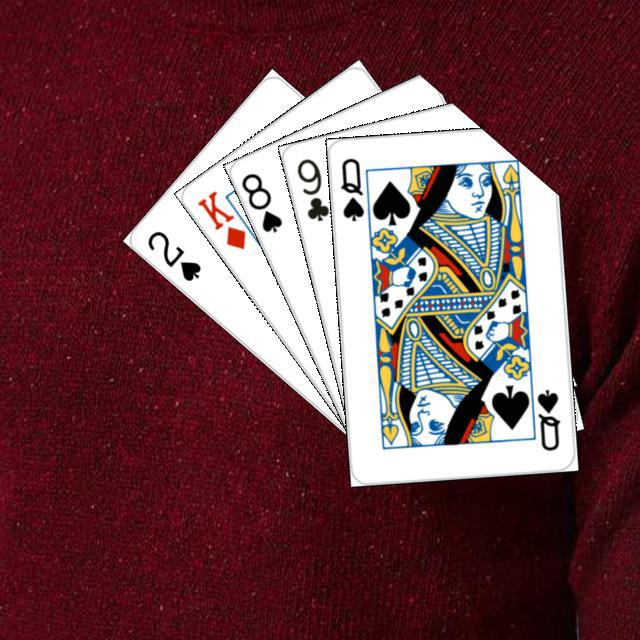2s: (142, 226, 203, 284)
8s: (236, 167, 284, 235)
9c: (291, 153, 331, 223)
Kd: (192, 185, 248, 251)
Qs: (335, 153, 365, 223), (532, 384, 562, 452)
